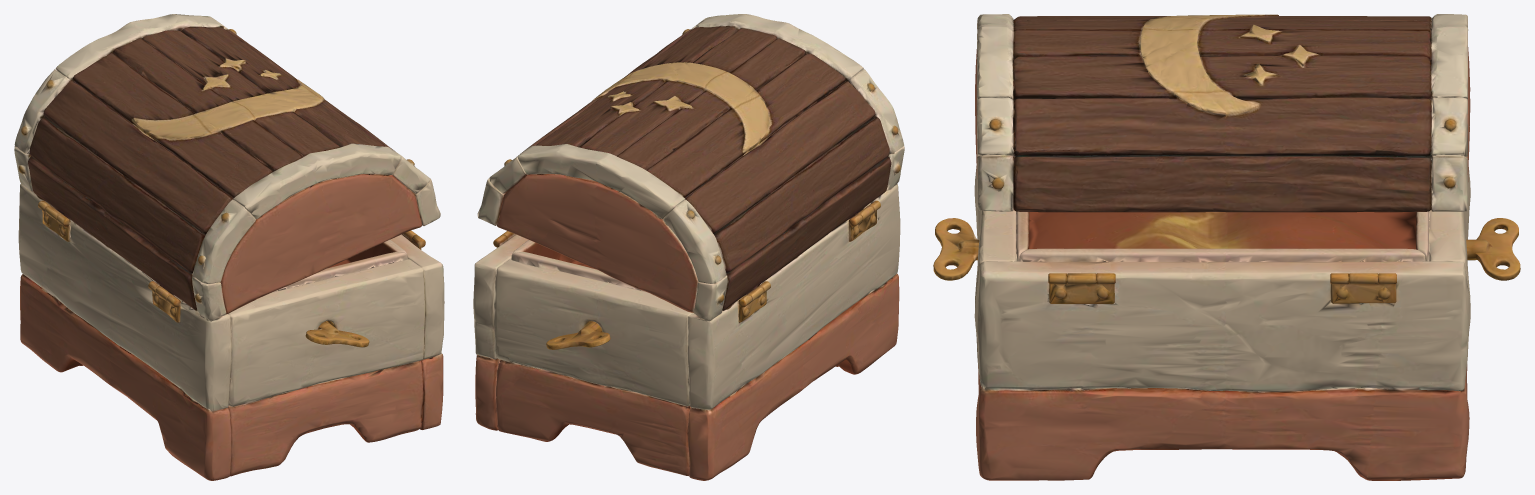
File: storybook-memory-box.glb
The picture shows the model from 3 angles, left to right: view 1: azimuth 30°, elevation 25°; view 2: azimuth 150°, elevation 25°; view 3: azimuth 270°, elevation 25°; orthographic projection. The views are drawn at different scales.
Parts seen in each view (by area): view 1: tripo_node_490ed48c-878f-4b5e-94a4-60dab8918017; view 2: tripo_node_490ed48c-878f-4b5e-94a4-60dab8918017; view 3: tripo_node_490ed48c-878f-4b5e-94a4-60dab8918017.
Part boxes in pixels (<box>): tripo_node_490ed48c-878f-4b5e-94a4-60dab8918017: <box>14,14,444,480</box>; tripo_node_490ed48c-878f-4b5e-94a4-60dab8918017: <box>473,14,904,480</box>; tripo_node_490ed48c-878f-4b5e-94a4-60dab8918017: <box>933,14,1520,480</box>.
Bounding box in the file's own units: 0.6228 × 0.6979 × 0.9801.
1 material, 1 textured.
